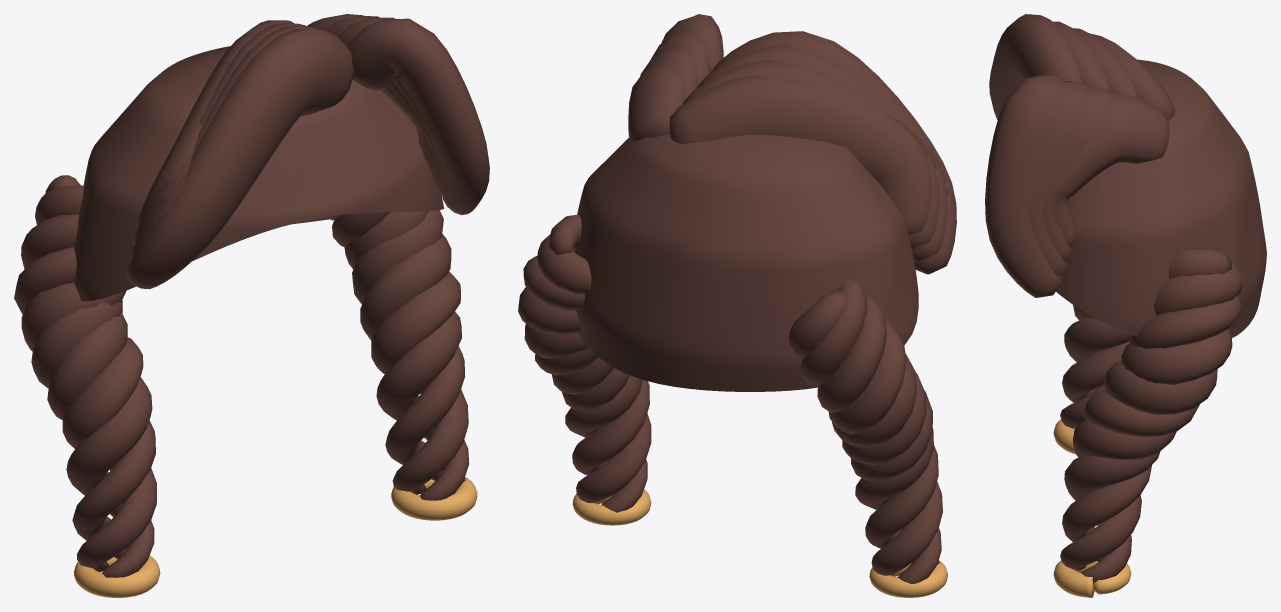
File: studio_braids_long.glb
The picture shows the model from 3 angles, left to right: view 1: azimuth 30°, elevation 25°; view 2: azimuth 150°, elevation 25°; view 3: azimuth 270°, elevation 25°; orthographic projection. The views are drawn at different scales.
Visible parts, largest first — view 1: braids; view 2: braids; view 3: braids.
Boxes of the visible parts, box(x1,y1,x2,y2) form: braids: box(14, 14, 489, 597); braids: box(518, 14, 956, 597); braids: box(985, 14, 1266, 597).
Bounding box in the file's own units: 0.5816 × 0.7198 × 0.3764.
